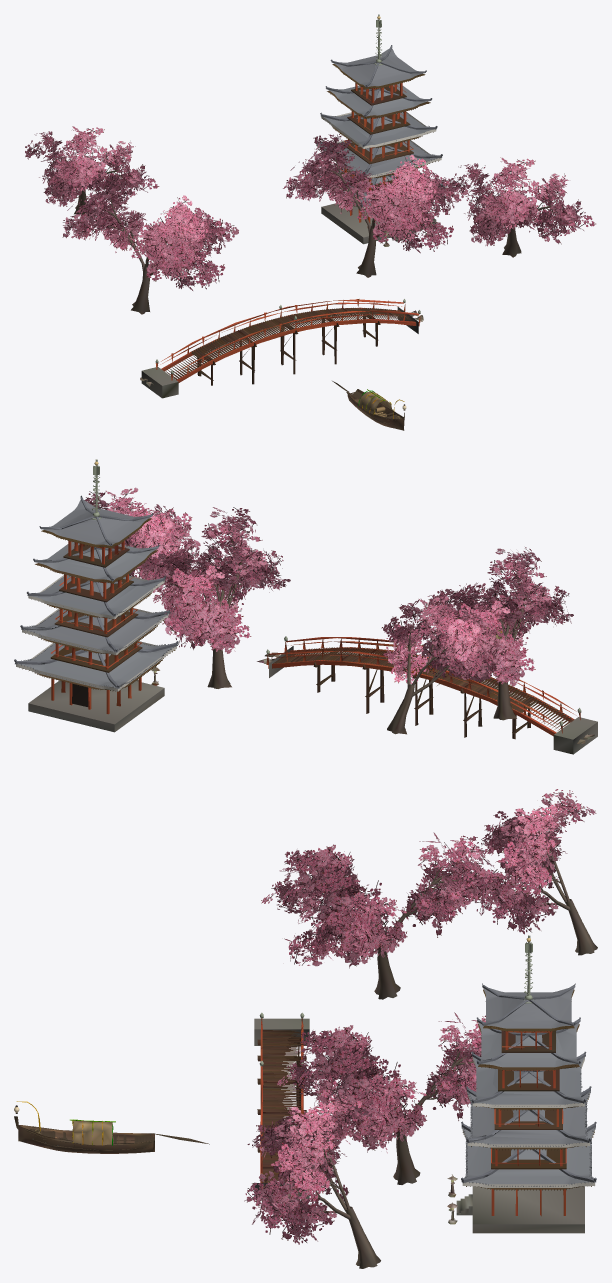
Rendered from landmark.glb.
3 renders of one model, top to bottom at view 1: azimuth 30°, elevation 25°; view 2: azimuth 150°, elevation 25°; view 3: azimuth 270°, elevation 25°, orthographic. The views are drawn at different scales.
Visible parts, largest first — view 1: Native sakura foliage, Native sakura structure, Native sakura boat; view 2: Native sakura structure, Native sakura foliage; view 3: Native sakura foliage, Native sakura structure, Native sakura boat.
Boxes of the visible parts, x1,y1,x2,y2 form: Native sakura foliage: (25, 126, 595, 290); Native sakura structure: (61, 14, 555, 398); Native sakura boat: (332, 381, 406, 430); Native sakura structure: (14, 459, 597, 754); Native sakura foliage: (84, 487, 573, 686); Native sakura foliage: (244, 789, 596, 1244); Native sakura structure: (254, 831, 597, 1268); Native sakura boat: (14, 1101, 209, 1153).
Bounding box in the file's own units: 11.15 × 5.56 × 9.11.
Materials: 3 (1 with a texture image).
